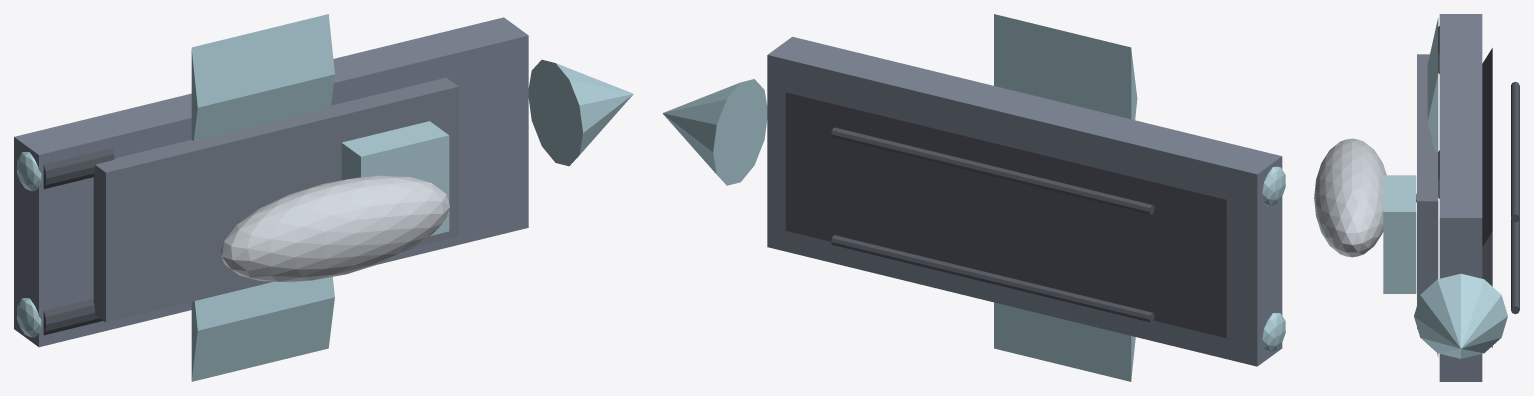
File: SWS-001_sparrowhook_scout_skiff.glb
3 views of the same model, side by side, from view 1: azimuth 30°, elevation 25°; view 2: azimuth 150°, elevation 25°; view 3: azimuth 270°, elevation 25° (orthographic). The views are drawn at different scales.
Visible parts, largest first — view 1: main_hull, upper_deck, aether_lift_bladder_1, wing_1, wing_-1, aether_nose, bridge, engine_pod_1, engine_pod_-1, engine_glow_-1, engine_glow_1; view 2: keel, main_hull, wing_1, aether_nose, wing_-1, landing_skid_1, landing_skid_-1, engine_glow_1, engine_glow_-1; view 3: main_hull, aether_lift_bladder_1, aether_nose, upper_deck, bridge, keel, landing_skid_1, wing_1, landing_skid_-1.
Part boxes in pixels (x1,y1,x2,y2): main_hull: (14, 17, 528, 347); upper_deck: (93, 77, 458, 322); aether_lift_bladder_1: (220, 175, 449, 282); wing_1: (191, 14, 334, 140); wing_-1: (191, 277, 334, 381); aether_nose: (528, 59, 633, 166); bridge: (341, 121, 449, 235); engine_pod_1: (43, 148, 114, 188); engine_pod_-1: (43, 298, 102, 335); engine_glow_-1: (17, 298, 41, 337); engine_glow_1: (17, 152, 41, 191); keel: (785, 92, 1232, 338); main_hull: (767, 36, 1282, 366); wing_1: (994, 14, 1137, 120); aether_nose: (662, 79, 767, 185); wing_-1: (994, 302, 1135, 381); landing_skid_1: (831, 127, 1154, 214); landing_skid_-1: (831, 235, 1154, 322); engine_glow_1: (1262, 166, 1285, 205); engine_glow_-1: (1262, 313, 1285, 352); main_hull: (1439, 14, 1482, 381); aether_lift_bladder_1: (1314, 138, 1386, 257); aether_nose: (1414, 273, 1507, 358); upper_deck: (1417, 54, 1438, 329); bridge: (1383, 175, 1416, 293); keel: (1482, 48, 1492, 347); landing_skid_1: (1511, 81, 1519, 222); wing_1: (1427, 18, 1438, 152); landing_skid_-1: (1511, 218, 1519, 314).
Bounding box in the file's own units: 10.06 × 5.22 × 3.41.
